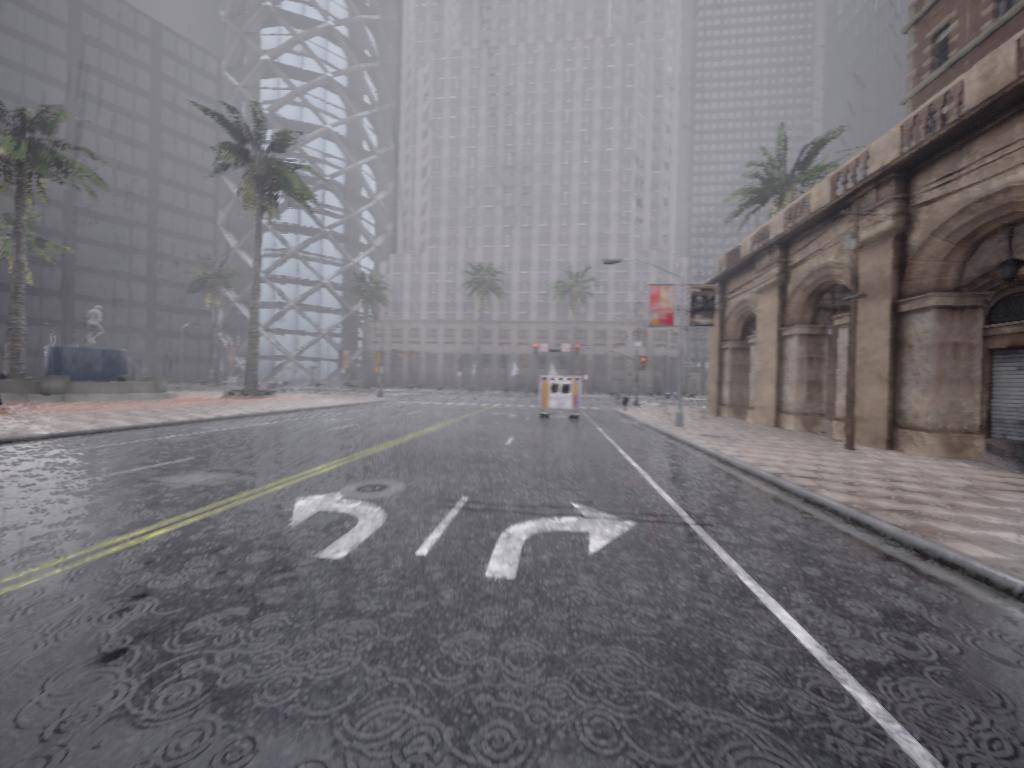traffic_light: (344, 351, 353, 370), (641, 357, 651, 370), (575, 344, 582, 359), (533, 343, 539, 358), (377, 353, 383, 366), (399, 348, 404, 362), (411, 352, 416, 365)
